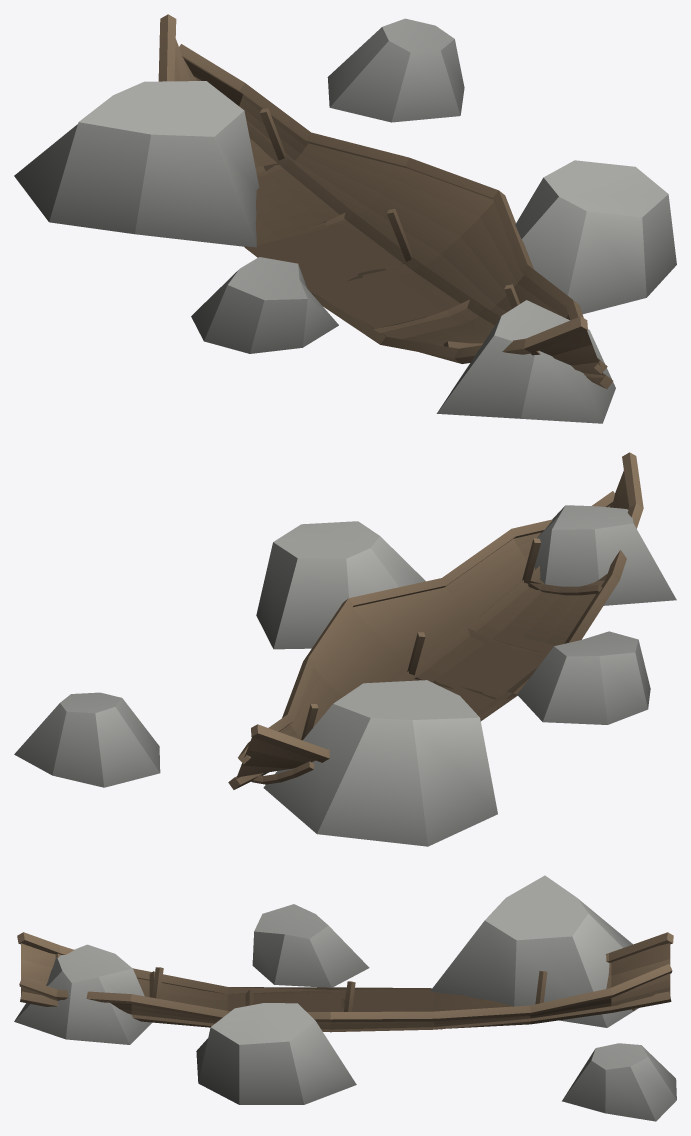
The model's file is wreck_hull.glb.
The picture shows the model from 3 angles, top to bottom: view 1: azimuth 30°, elevation 25°; view 2: azimuth 150°, elevation 25°; view 3: azimuth 270°, elevation 25°; orthographic projection. The views are drawn at different scales.
Parts seen in each view (by area): view 1: wreck_hull; view 2: wreck_hull; view 3: wreck_hull.
Part boxes in pixels (x1,y1,x2,y2): wreck_hull: (14,14,676,423); wreck_hull: (14,452,676,846); wreck_hull: (14,875,676,1121).
Size of the model in its own units: 5.82 by 1.25 by 8.98.
